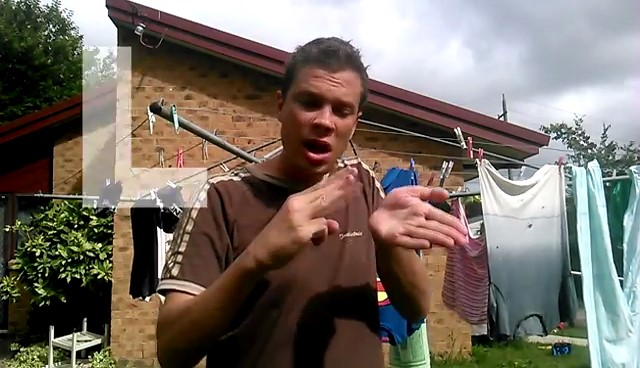M: (244, 156, 489, 279)
